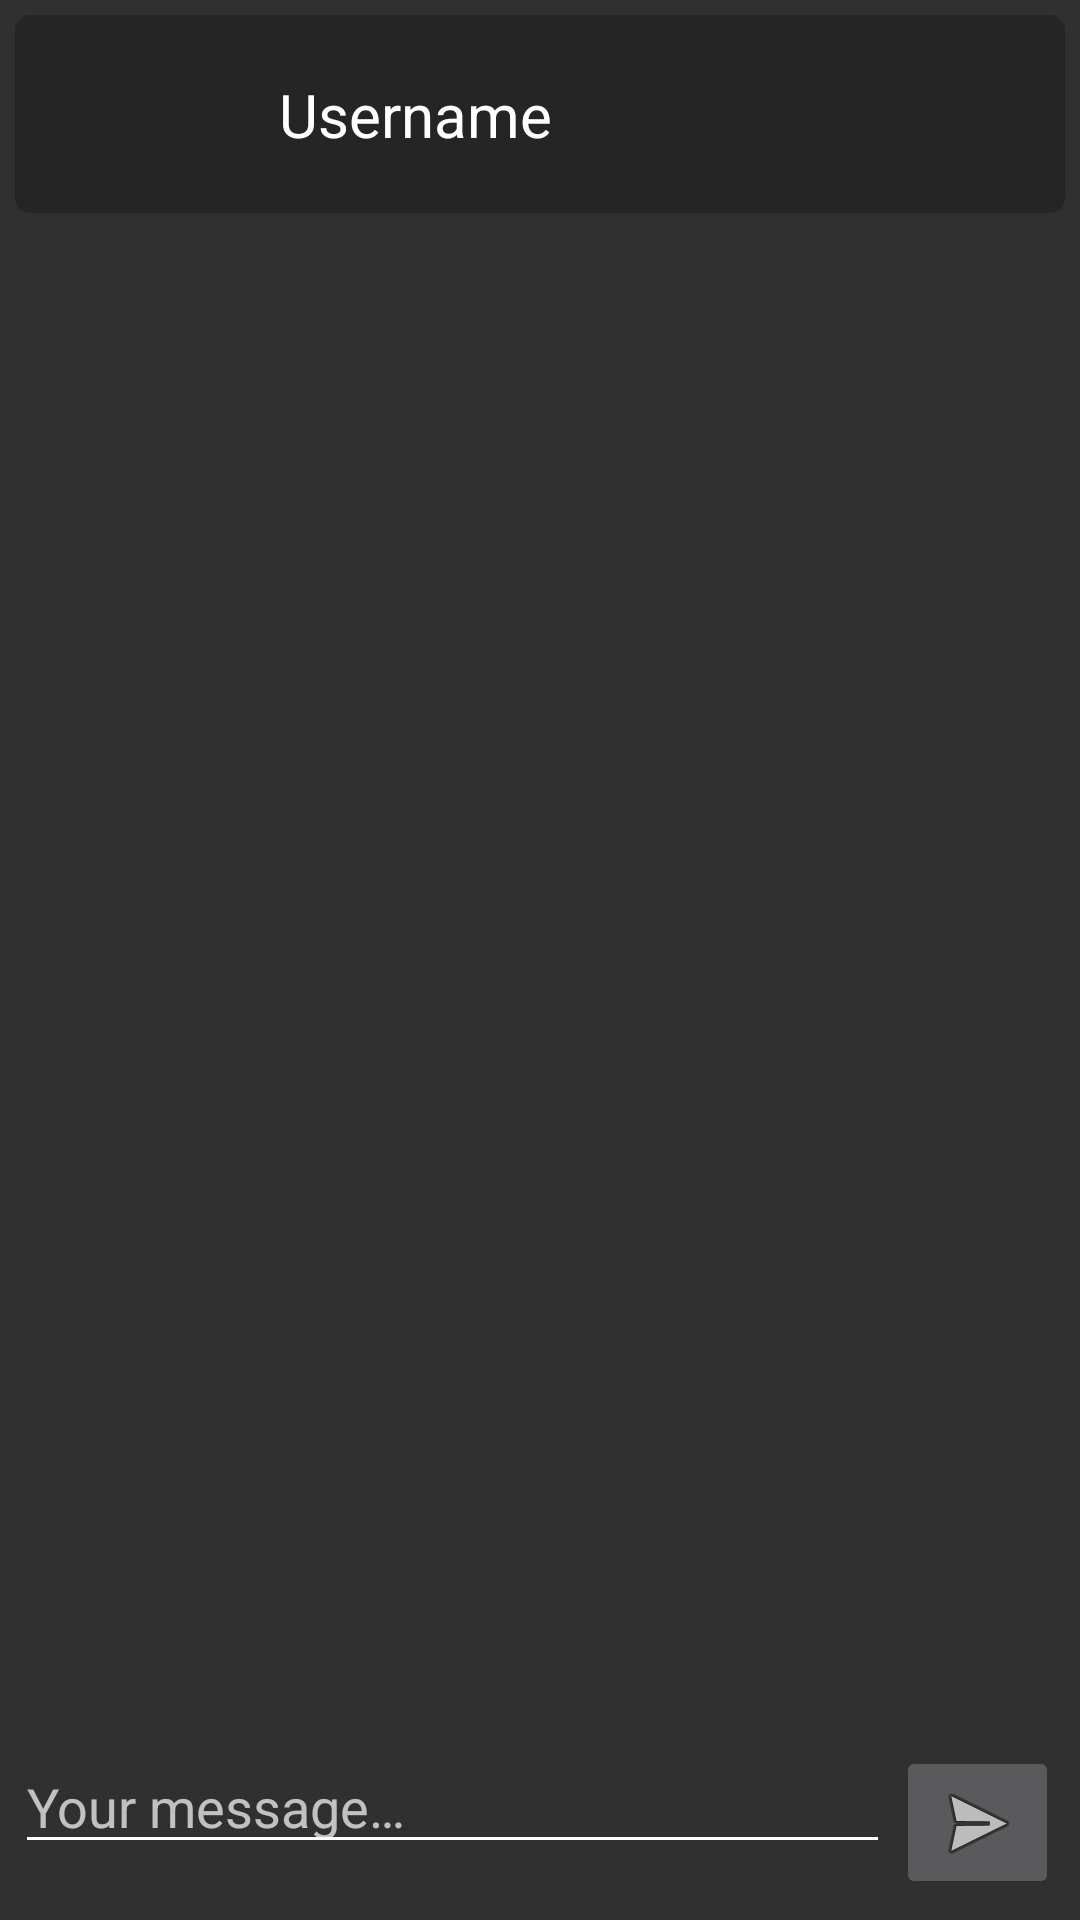

Screen size 1080x1920. Icon name, then its center in pixels as [x,y]:
send: [977,1822]
